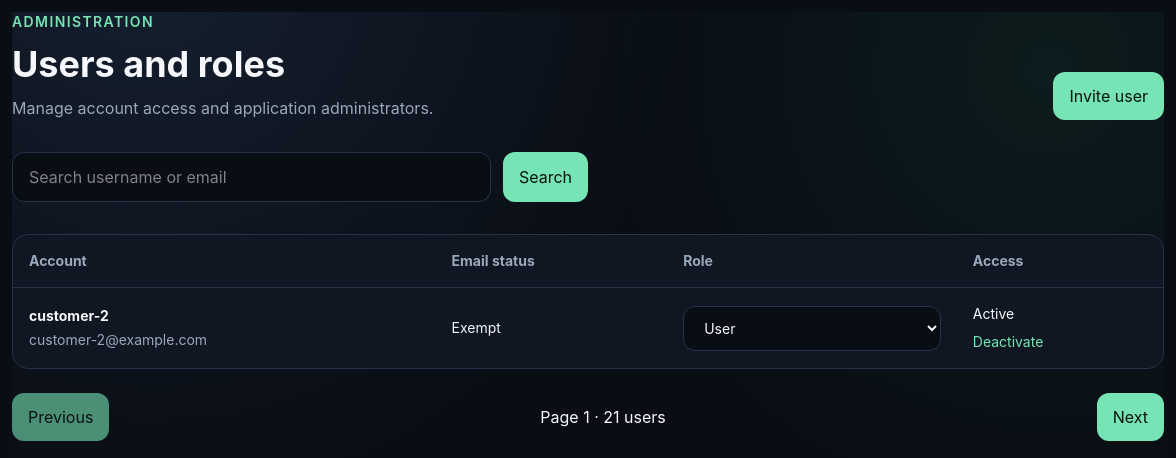
Scenario: sends admin pagination and search to the server and resets search to page one
expect the text "customer-2" is shown: met, box [29,307,109,324]
Click the button "Next" at (1130, 417), box [1097,393,1164,441]
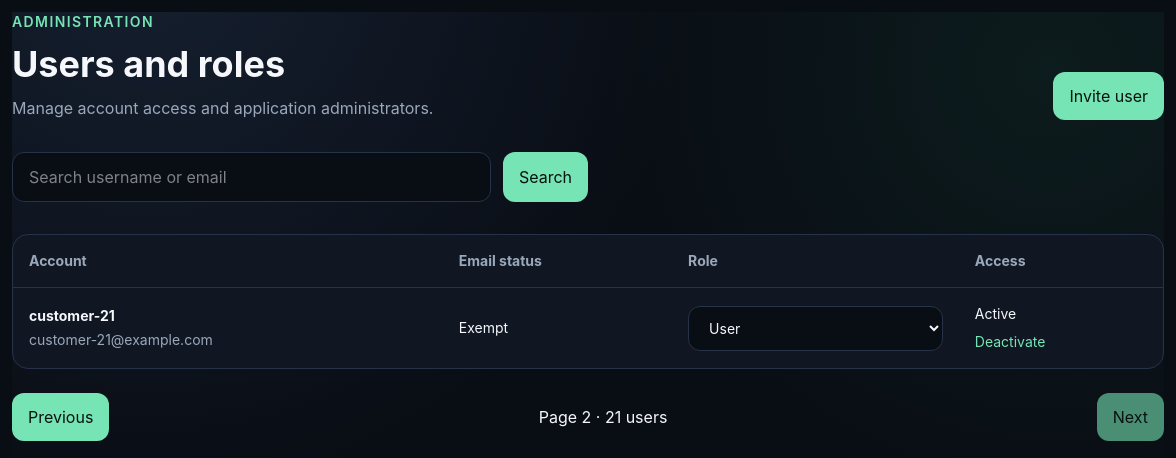
expect the text "customer-21" is shown: met, box [29,307,115,324]
Type "customer-99" into the search field at (251, 177), box [12,152,491,202]
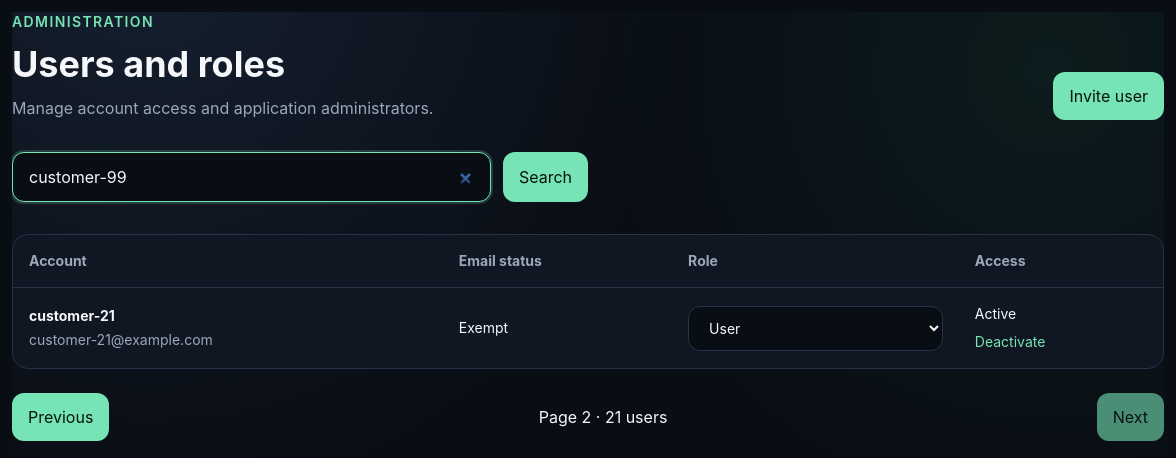
Click the button "Search" at (545, 177), box [503,152,588,202]
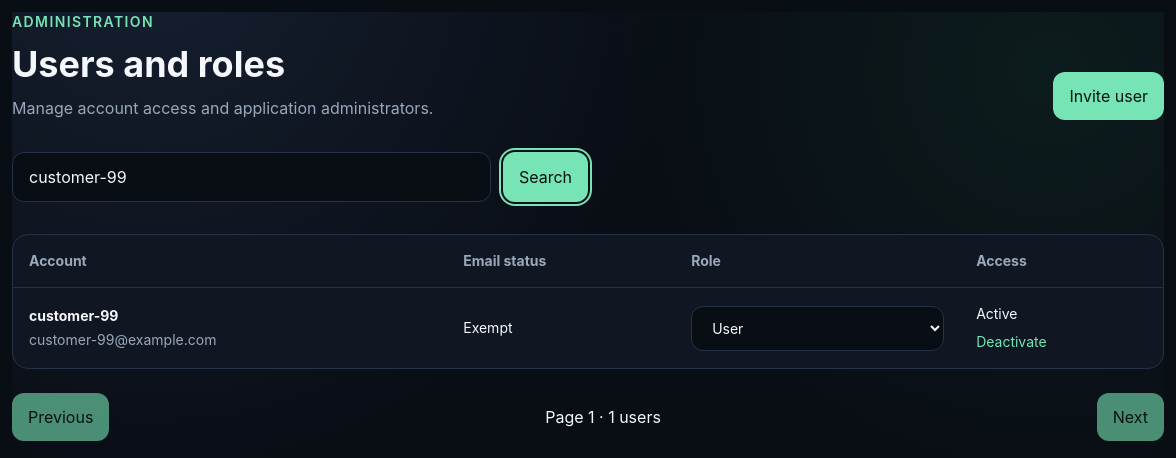
expect the text "customer-99" is shown: met, box [29,307,118,324]
expect the text "customer-21" is gone: met
